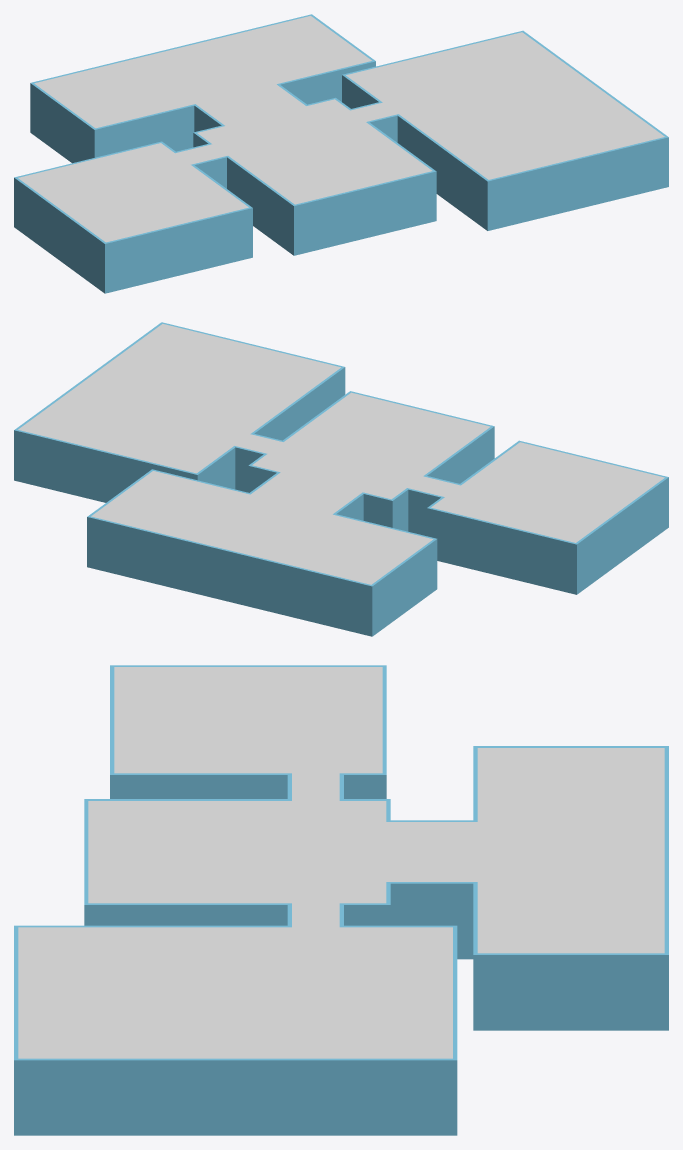
Rendered from Local.FBX.
3 renders of one model, top to bottom at view 1: azimuth 30°, elevation 25°; view 2: azimuth 150°, elevation 25°; view 3: azimuth 270°, elevation 25°, orthographic. The views are drawn at different scales.
Visible parts, largest first — view 1: Teto, Parede; view 2: Teto, Parede; view 3: Teto, Parede.
Part boxes in pixels (x1,y1,x2,y2): Teto: [18, 16, 664, 242]; Parede: [14, 14, 668, 293]; Teto: [18, 324, 664, 584]; Parede: [14, 322, 668, 636]; Teto: [18, 667, 664, 1058]; Parede: [14, 665, 668, 1135].
Size of the model in its own units: 2208 by 197 by 1547.
